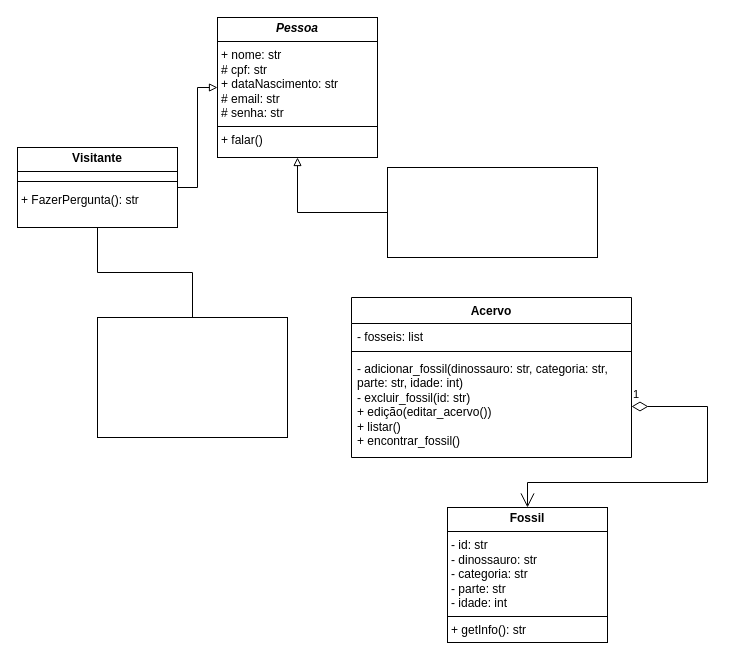
This 742x660 diagram has some shape labels left out. Here are the shapes that lost their labels. From the top down, the centre of each, then its label:
At pixel 492 212: "Funcionario - identificador: str + editar_acervo(): int".
At pixel 192 377: "Guia + nome: str + historiaMuseu(): str + historiaFossil(fossil:Fossil): str".
